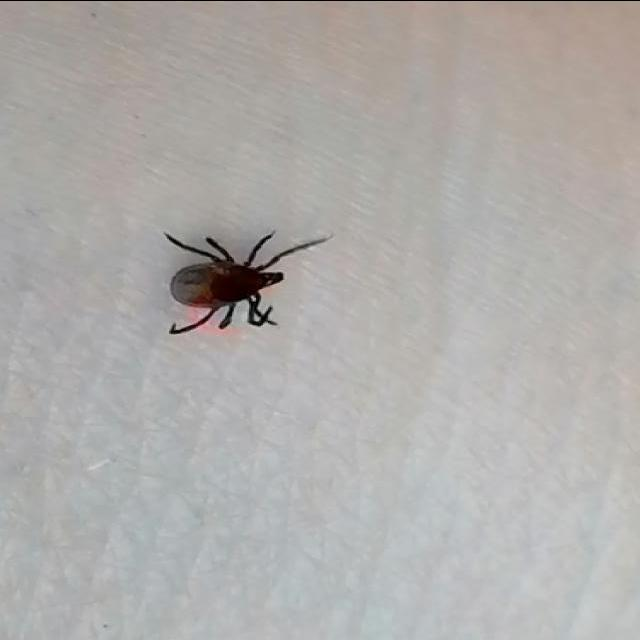Ixodes Ricinus-F: (162, 229, 333, 333)
